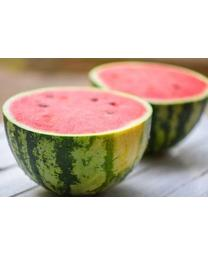watermelon: (2, 86, 150, 197)
